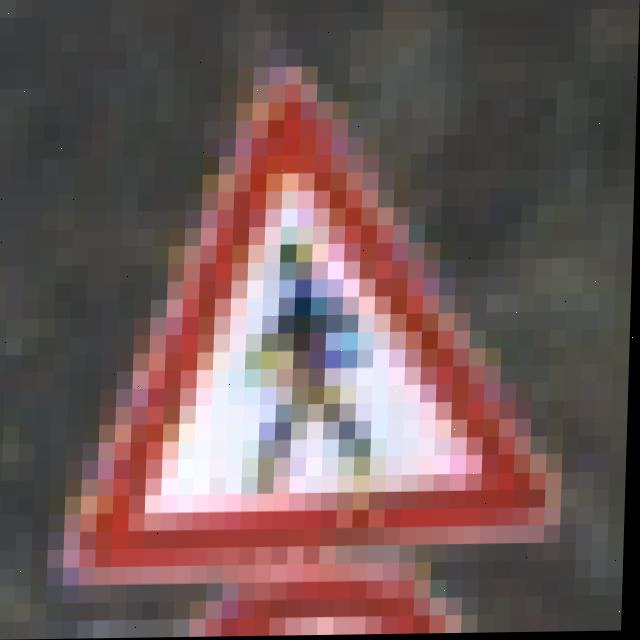crosswalk: (90, 106, 572, 537)
